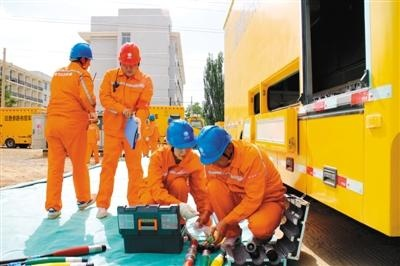blue: (194, 122, 233, 167), (163, 118, 195, 158), (68, 39, 93, 70)
yellow: (116, 41, 141, 77)
